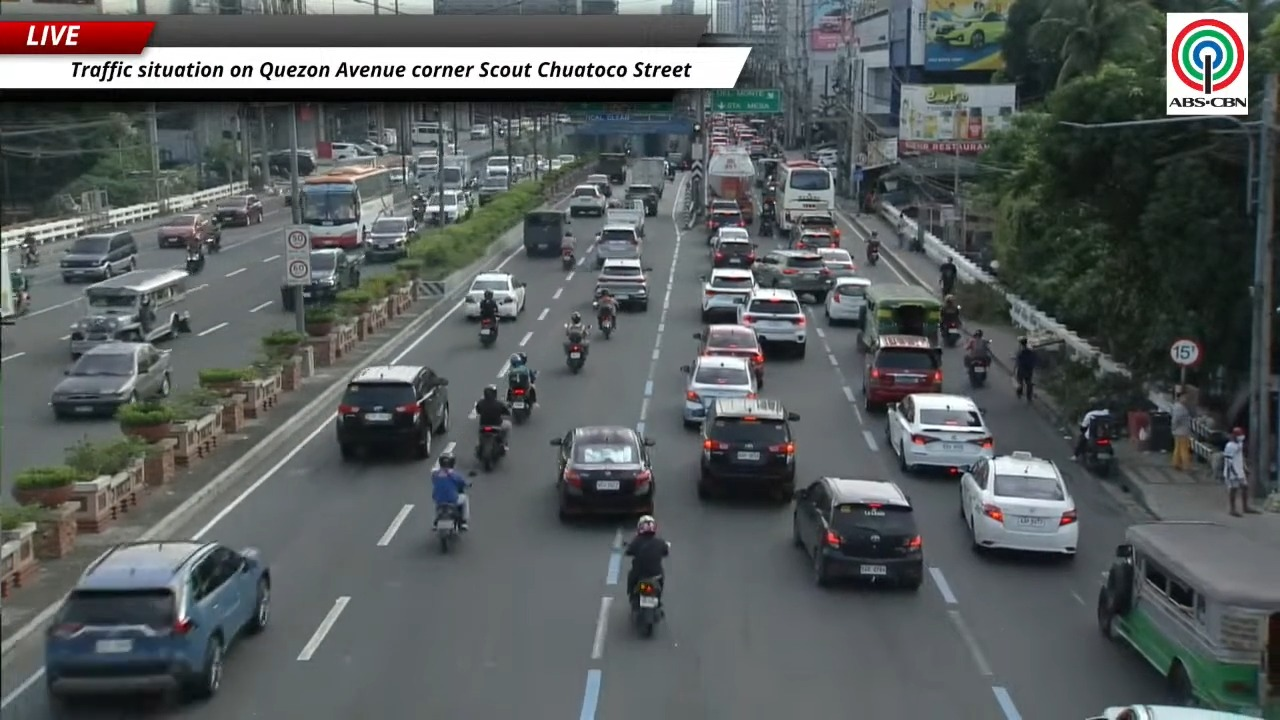bus: (299, 167, 394, 250), (776, 161, 835, 233), (411, 122, 442, 144)
car: (45, 540, 271, 712), (793, 477, 924, 590), (959, 451, 1078, 558), (335, 365, 449, 460), (697, 398, 798, 500), (551, 426, 655, 521), (50, 342, 170, 418), (886, 393, 993, 472), (863, 334, 942, 411), (681, 356, 757, 427), (738, 286, 806, 357), (693, 324, 764, 387), (752, 250, 831, 303), (59, 231, 138, 282), (302, 248, 361, 303), (464, 272, 525, 319), (594, 259, 650, 310), (932, 11, 1006, 49), (701, 268, 754, 321), (1086, 704, 1253, 719), (594, 221, 642, 269), (157, 212, 220, 248), (824, 276, 870, 325), (365, 217, 415, 260), (710, 228, 755, 268), (707, 204, 746, 243), (215, 194, 264, 225), (426, 190, 470, 224), (790, 211, 841, 238), (816, 247, 857, 278), (569, 184, 607, 217), (624, 184, 659, 216), (789, 230, 838, 250), (477, 175, 509, 205), (331, 143, 374, 161), (711, 225, 750, 244), (585, 174, 612, 197), (355, 139, 388, 155), (815, 149, 838, 169), (708, 199, 740, 213), (469, 125, 490, 139), (556, 154, 576, 164), (550, 158, 563, 170)
motorcycle: (631, 578, 664, 637), (1082, 423, 1115, 477), (433, 505, 461, 553), (476, 426, 504, 471), (508, 386, 532, 424), (967, 358, 989, 388), (566, 343, 585, 373), (942, 318, 961, 347), (479, 318, 497, 347), (1015, 377, 1034, 402), (411, 194, 426, 223), (598, 313, 614, 339), (186, 254, 204, 274), (22, 245, 38, 267), (561, 249, 575, 270), (759, 218, 774, 236), (866, 245, 879, 265), (204, 237, 220, 253)
truck: (707, 147, 755, 223), (0, 250, 30, 323), (630, 157, 666, 197), (0, 250, 15, 323), (441, 155, 470, 189), (595, 153, 626, 184)
